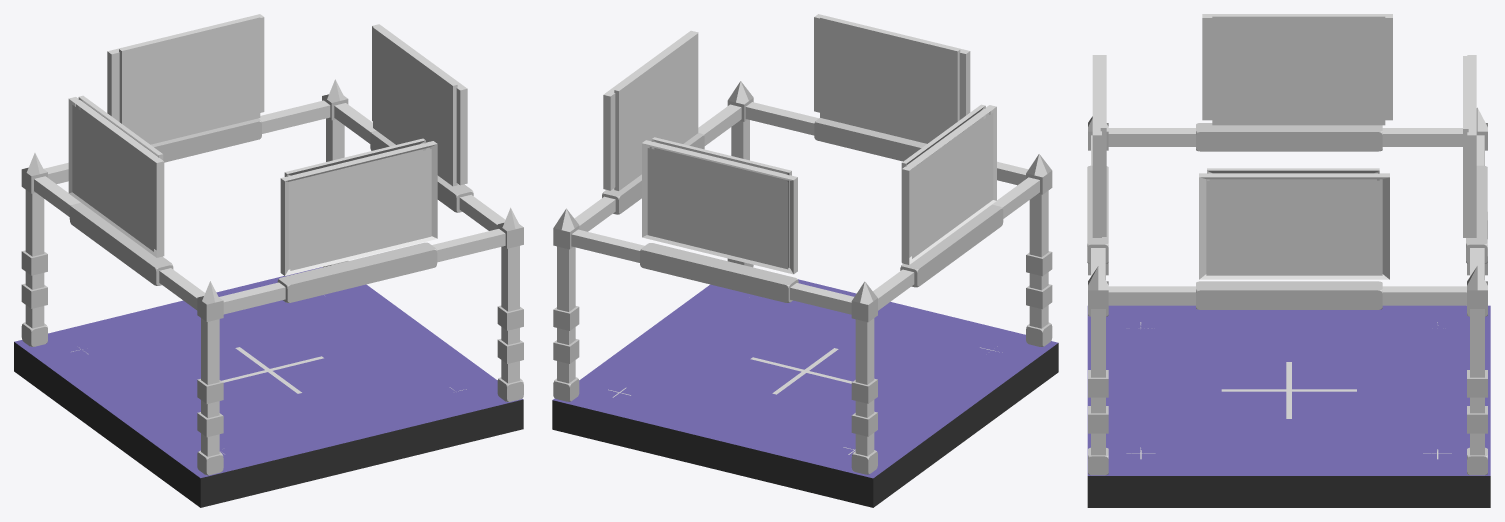
The model's file is road_2.fbx.
3 renders of one model, left to right at view 1: azimuth 30°, elevation 25°; view 2: azimuth 150°, elevation 25°; view 3: azimuth 270°, elevation 25°, orthographic. The views are drawn at different scales.
Parts seen in each view (by area): view 1: Road.001, Billboard 2.005|Billboard 1.006|Dupli|1, Billboard 2.004|Billboard 1.007|Dupli|2, Billboard 2.003|Billboard 1.006|Dupli|1, Billboard 2.006|Billboard 1.007|Dupli|2, Cube.109, Cube.105, Cube.106, Cube.103, Cube.104, Cube.108, Billboard 2.004|Billboard 1.005|Dupli| (+8 smaller); view 2: Road.001, Billboard 2.004|Billboard 1.006|Dupli|1, Billboard 2.005|Billboard 1.007|Dupli|2, Billboard 2.003|Billboard 1.006|Dupli|1, Billboard 2.006|Billboard 1.007|Dupli|2, Cube.108, Cube.105, Cube.109, Cube.104, Cube.102, Cube.106, Billboard 2.005|Billboard 1.005|Dupli| (+8 smaller); view 3: Road.001, Billboard 2.006|Billboard 1.006|Dupli|1, Billboard 2.003|Billboard 1.007|Dupli|2, Cube.107, Cube.105, Billboard 2.003|Billboard 1.005|Dupli|, Cube.102, Cube.103, Billboard 2.006|Billboard 1.005|Dupli|, Cube.108, Billboard 2.004|Billboard 1.005|Dupli|, Billboard 2.005|Billboard 1.005|Dupli| (+6 smaller).
Part boxes in pixels (x1,y1,x2,y2): Road.001: (14,267,523,507); Billboard 2.005|Billboard 1.006|Dupli|1: (119,15,260,144); Billboard 2.004|Billboard 1.007|Dupli|2: (290,149,431,270); Billboard 2.003|Billboard 1.006|Dupli|1: (373,26,457,186); Billboard 2.006|Billboard 1.007|Dupli|2: (72,105,153,251); Cube.109: (219,229,505,314); Cube.105: (34,176,204,310); Cube.106: (197,281,223,475); Cube.103: (497,207,523,401); Cube.104: (21,153,47,346); Cube.108: (43,100,330,183); Billboard 2.004|Billboard 1.005|Dupli|: (280,141,437,275); Road.001: (552,279,1058,507); Billboard 2.004|Billboard 1.006|Dupli|1: (820,16,960,143); Billboard 2.005|Billboard 1.007|Dupli|2: (647,148,788,269); Billboard 2.003|Billboard 1.006|Dupli|1: (614,32,698,190); Billboard 2.006|Billboard 1.007|Dupli|2: (912,113,993,258); Cube.108: (571,229,853,314); Cube.105: (873,177,1039,310); Cube.109: (745,102,1028,185); Cube.104: (851,281,877,474); Cube.102: (553,208,579,401); Cube.106: (1026,154,1052,346); Billboard 2.005|Billboard 1.005|Dupli|: (642,140,797,274); Road.001: (1087,305,1490,507); Billboard 2.006|Billboard 1.006|Dupli|1: (1212,14,1385,125); Billboard 2.003|Billboard 1.007|Dupli|2: (1206,180,1382,275); Cube.107: (1108,281,1466,309); Cube.105: (1108,123,1462,151); Billboard 2.003|Billboard 1.005|Dupli|: (1199,173,1389,279); Cube.102: (1467,266,1487,475); Cube.103: (1088,266,1108,475); Billboard 2.006|Billboard 1.005|Dupli|: (1202,14,1392,120); Cube.108: (1466,135,1487,278); Billboard 2.004|Billboard 1.005|Dupli|: (1092,55,1101,237); Billboard 2.005|Billboard 1.005|Dupli|: (1467,55,1476,237).
Bounding box in the file's own units: 801 × 726 × 801.
